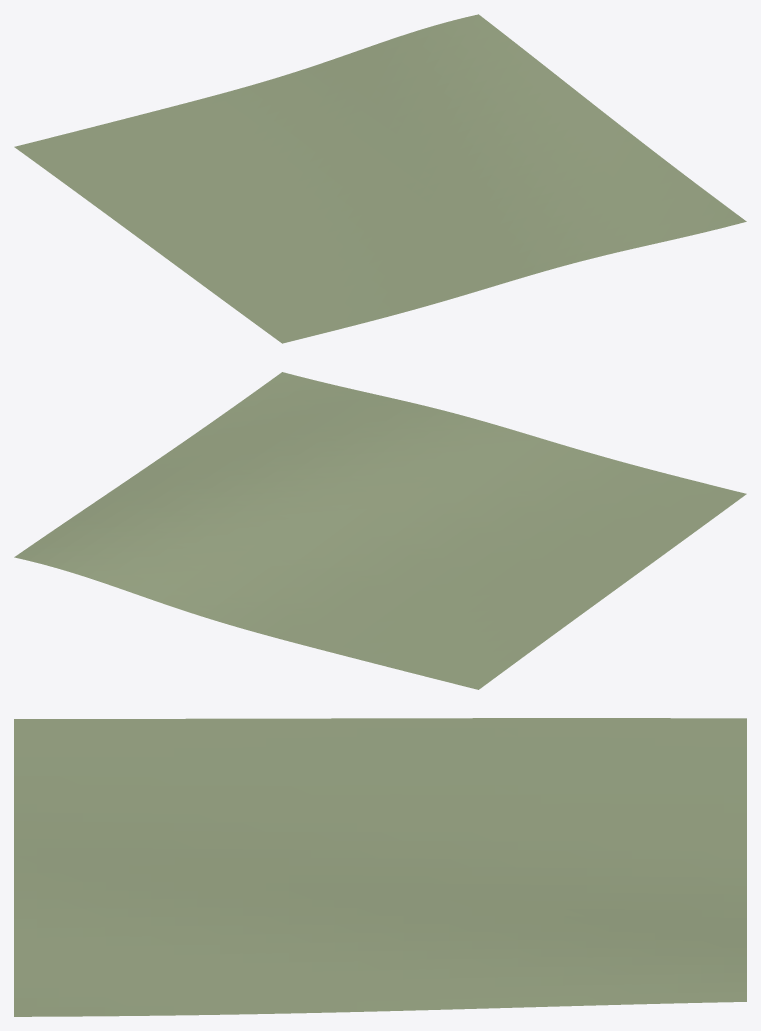
Rendered from desert-0-6.glb.
The picture shows the model from 3 angles, top to bottom: view 1: azimuth 30°, elevation 25°; view 2: azimuth 150°, elevation 25°; view 3: azimuth 270°, elevation 25°; orthographic projection. The views are drawn at different scales.
Visible parts, largest first — view 1: desert-0-6; view 2: desert-0-6; view 3: desert-0-6.
Part boxes in pixels (x1,y1,x2,y2): desert-0-6: [14, 14, 746, 343]; desert-0-6: [14, 372, 746, 689]; desert-0-6: [14, 718, 746, 1016].
Size of the model in its own units: 512 by 20.83 by 512.
